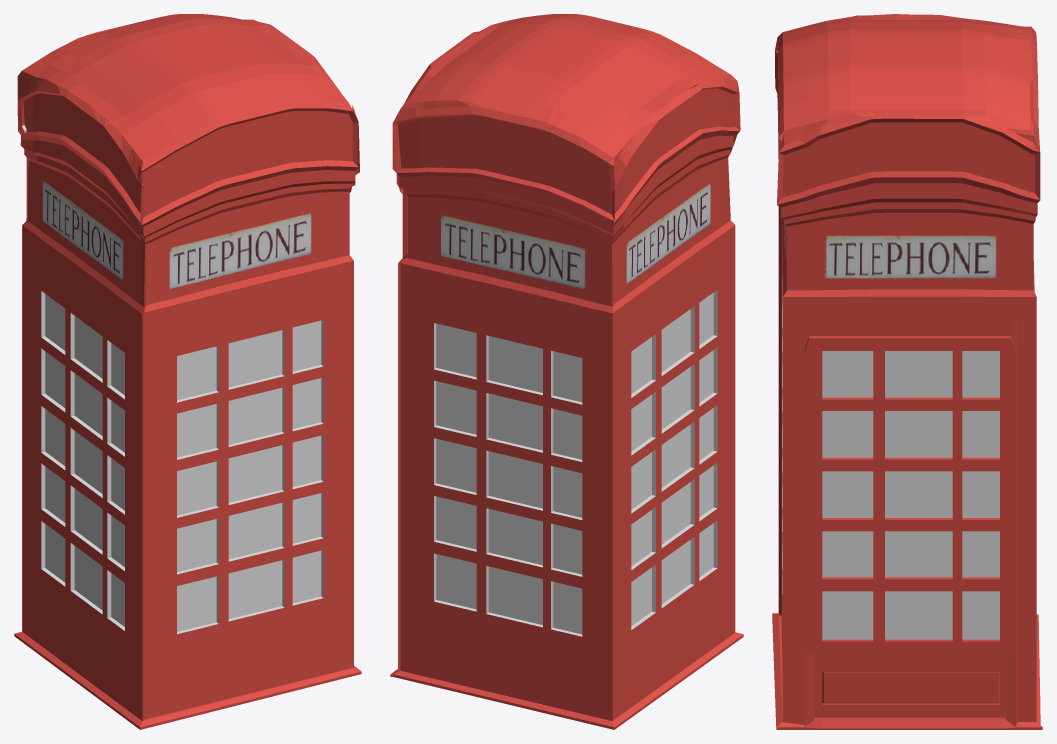
File: telephone.fbx
3 views of the same model, side by side, from view 1: azimuth 30°, elevation 25°; view 2: azimuth 150°, elevation 25°; view 3: azimuth 270°, elevation 25° (orthographic). The views are drawn at different scales.
Parts seen in each view (by area): view 1: Cube.001, Cube.005, Cube.004; view 2: Cube.001, Cube.003, Cube.004; view 3: Cube.001, Cube.002.
Boxes of the visible parts, x1,y1,x2,y2 form: Cube.001: (14, 14, 361, 729); Cube.005: (169, 213, 311, 288); Cube.004: (42, 180, 123, 280); Cube.001: (390, 14, 743, 729); Cube.003: (441, 215, 585, 289); Cube.004: (626, 183, 710, 283); Cube.001: (772, 14, 1042, 729); Cube.002: (824, 235, 996, 278).
Size of what is drawn, in the model's own units: 124 by 311 by 122.
12 materials, 4 textured.
